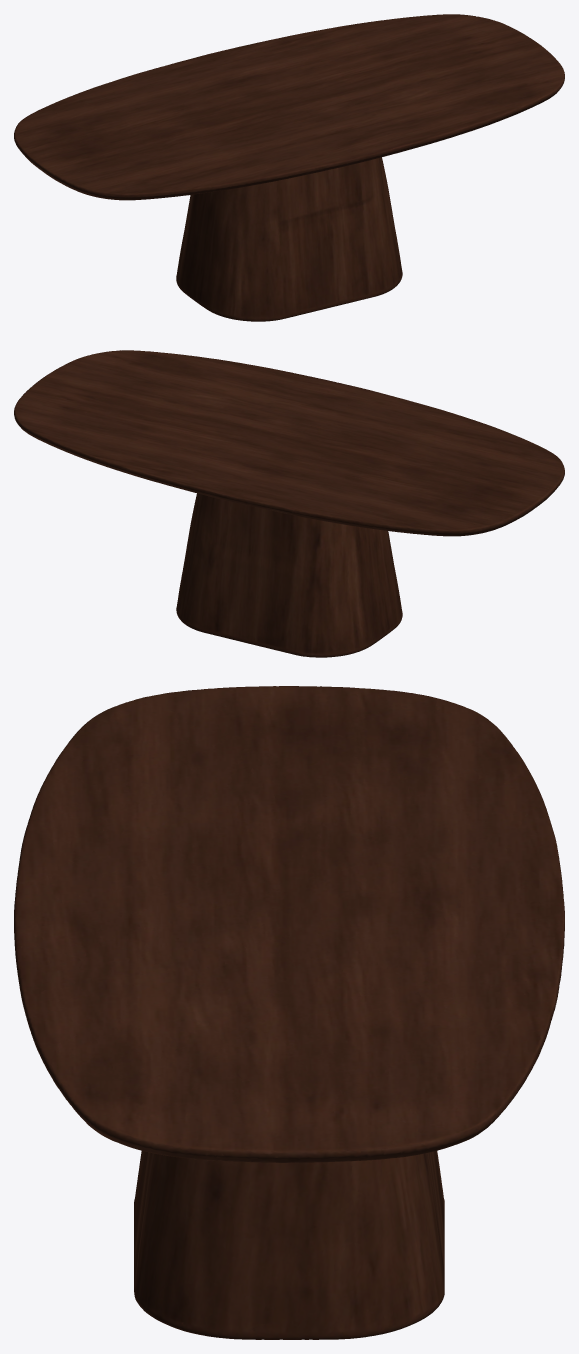
Rendered from dining_table.glb.
3 views of the same model, one above another, from view 1: azimuth 30°, elevation 25°; view 2: azimuth 150°, elevation 25°; view 3: azimuth 270°, elevation 25° (orthographic). The views are drawn at different scales.
Visible parts, largest first — view 1: world; view 2: world; view 3: world.
Boxes of the visible parts, <box> form: world: <box>14,14,564,321</box>; world: <box>14,350,564,657</box>; world: <box>14,686,564,1339</box>.
Bounding box in the file's own units: 1 × 0.3346 × 0.4998.
Materials: 1 (1 with a texture image).
